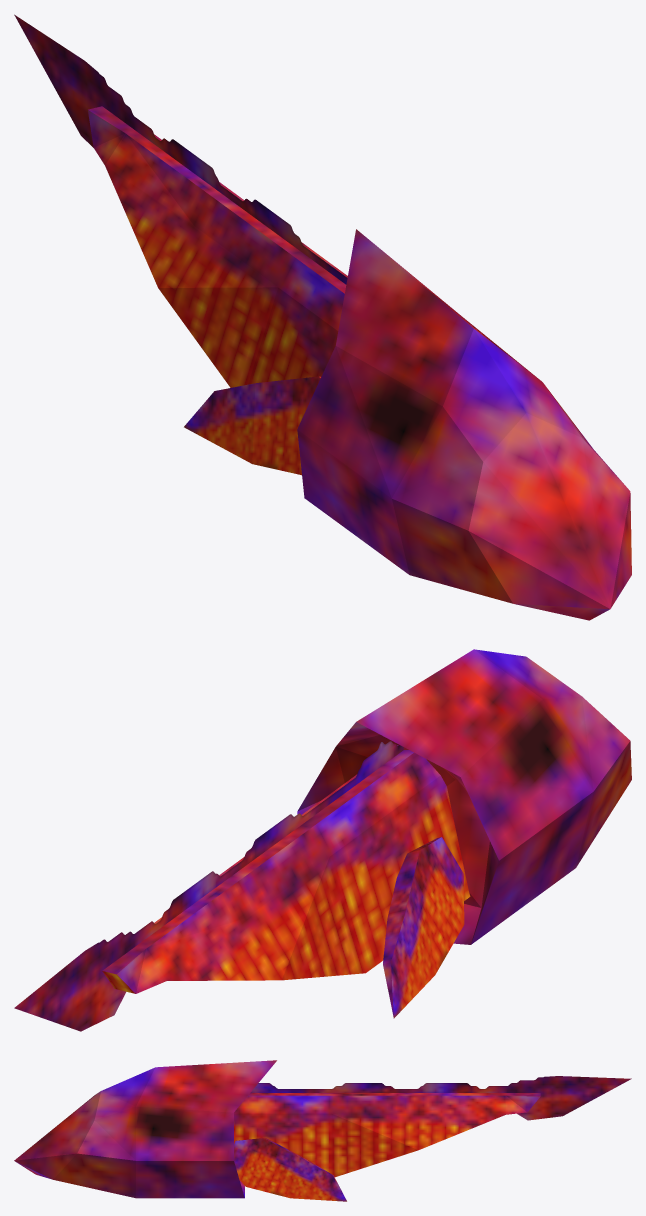
File: cephignis.obj
3 renders of one model, top to bottom at view 1: azimuth 30°, elevation 25°; view 2: azimuth 150°, elevation 25°; view 3: azimuth 270°, elevation 25°, orthographic. The views are drawn at different scales.
Visible parts, largest first — view 1: Head, Body, ArmRight; view 2: Body, Head, ArmRight; view 3: Head, Body, ArmLeft.
Boxes of the visible parts, x1,y1,x2,y2 form: Head: (297, 229, 631, 620); Body: (14, 14, 347, 387); ArmRight: (184, 376, 320, 475); Body: (14, 741, 470, 1031); Head: (297, 649, 631, 944); ArmRight: (383, 837, 464, 1018); Head: (14, 1060, 276, 1198); Body: (234, 1076, 631, 1177); ArmLeft: (234, 1138, 346, 1201).
Size of the model in its own units: 0.8084 by 0.88 by 3.97.
